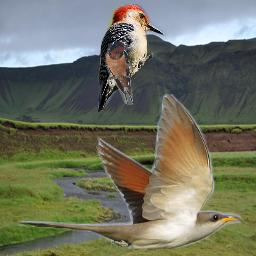Cuckoo: (18, 94, 241, 249)
Swallow: (105, 41, 133, 105)
Woodpecker: (98, 4, 167, 112)
